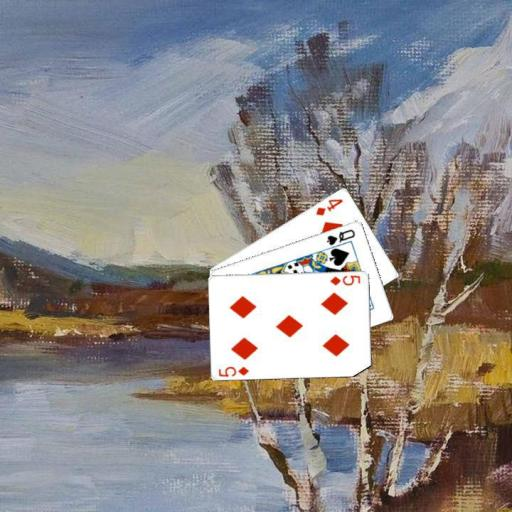4D: (313, 195, 344, 217)
5D: (327, 272, 362, 287), (216, 364, 251, 378)
QS: (324, 226, 356, 247)
